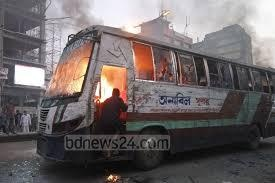fire: (105, 171, 120, 181)
